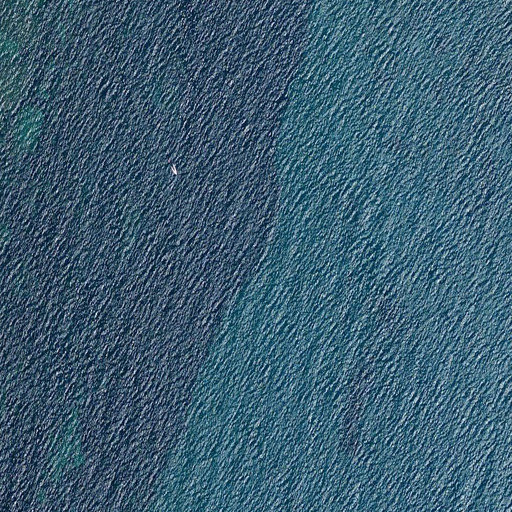ship: (170, 163, 178, 175)
